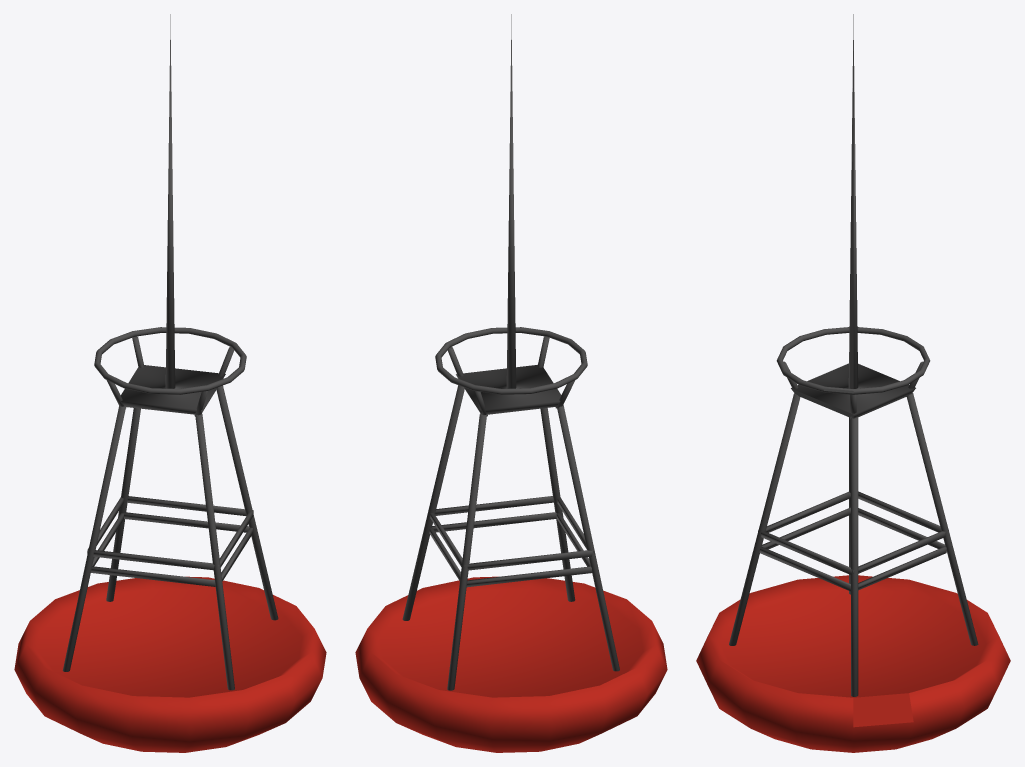
File: buoy.fbx
3 views of the same model, side by side, from view 1: azimuth 30°, elevation 25°; view 2: azimuth 150°, elevation 25°; view 3: azimuth 270°, elevation 25° (orthographic).
Parts seen in each view (by area): view 1: polySurface1; view 2: polySurface1; view 3: polySurface1.
Boxes of the visible parts, x1,y1,x2,y2 form: polySurface1: (14,14,326,752); polySurface1: (355,14,667,752); polySurface1: (696,14,1010,752).
Bounding box in the file's own units: 5.66 × 14.1 × 5.66.
